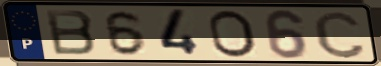4: (157, 7, 206, 60)
6: (264, 8, 308, 61), (103, 9, 149, 57)
B: (42, 8, 99, 57)
C: (310, 9, 369, 60)
O: (206, 8, 260, 59)
